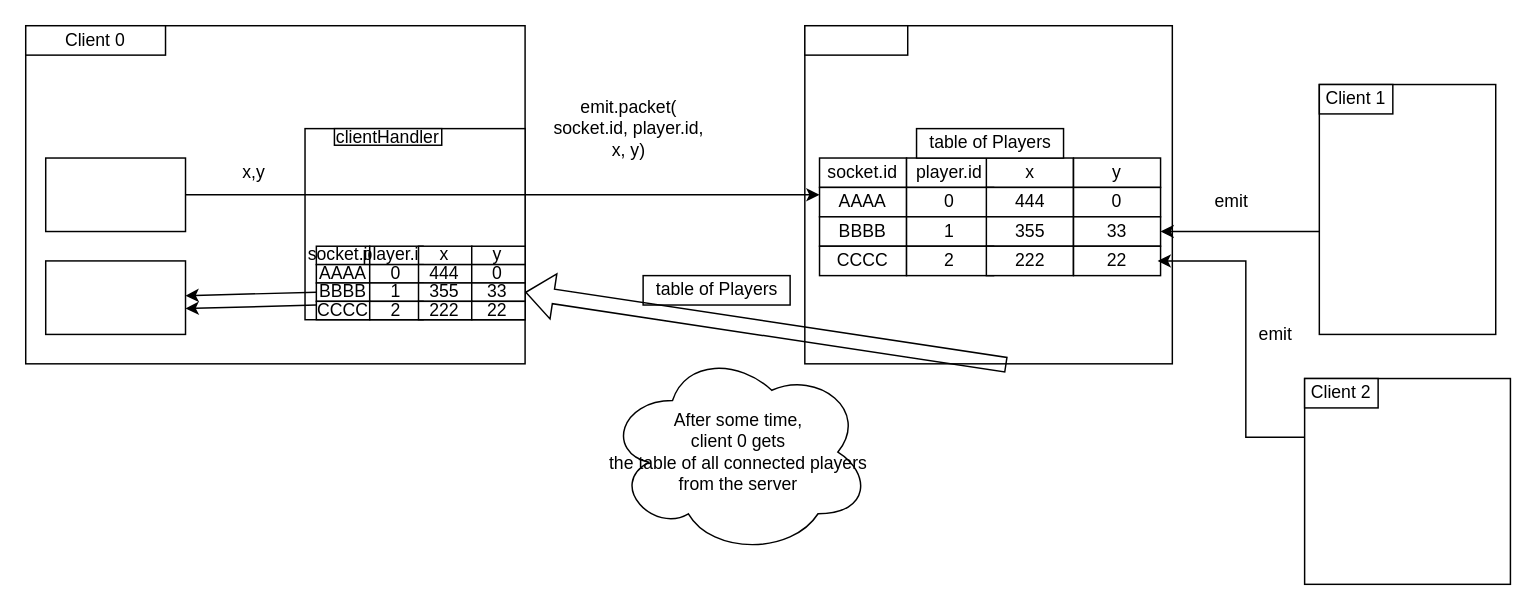
Some shapes in this 1536 by 610 pixel diagram are drawn without their labels. Here are the shapes that lost their labels. From the top down, the box of each, then its label:
(803, 24, 908, 55): server
(44, 157, 186, 232): player
(44, 259, 186, 334): Other players
